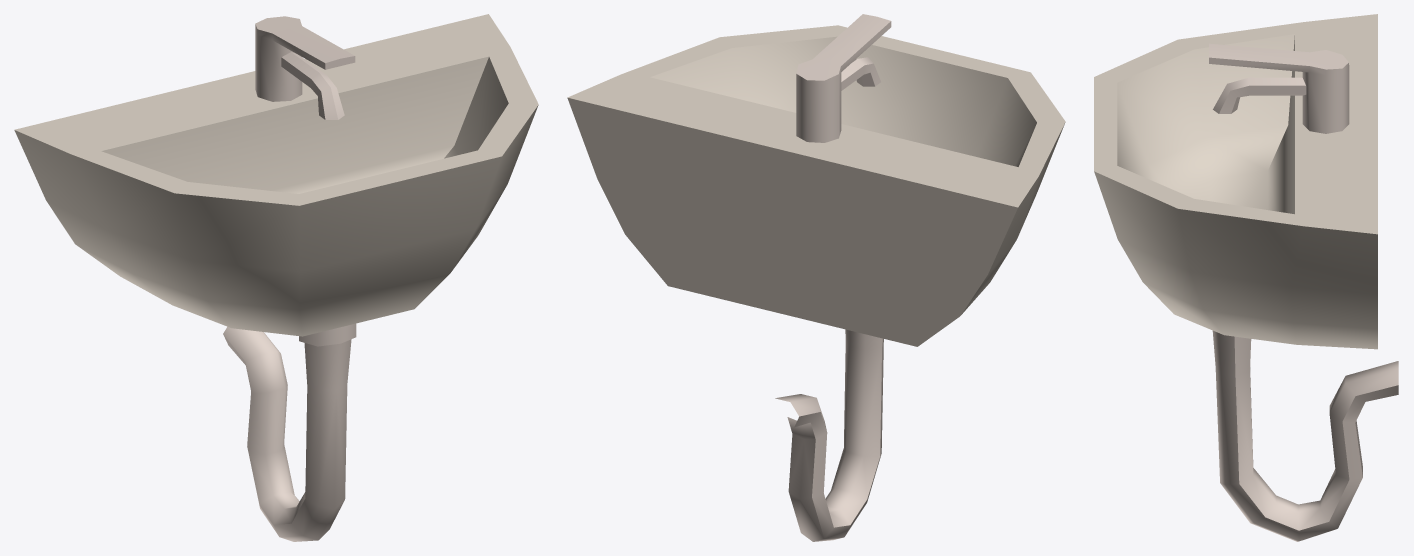
File: bath-sink.glb
3 views of the same model, side by side, from view 1: azimuth 30°, elevation 25°; view 2: azimuth 150°, elevation 25°; view 3: azimuth 270°, elevation 25° (orthographic). The views are drawn at different scales.
Visible parts, largest first — view 1: Bathroom_Sink; view 2: Bathroom_Sink; view 3: Bathroom_Sink.
Boxes of the visible parts, x1,y1,x2,y2 form: Bathroom_Sink: [14, 14, 538, 541]; Bathroom_Sink: [567, 14, 1065, 541]; Bathroom_Sink: [1094, 14, 1398, 541].
Bounding box in the file's own units: 1.39 × 1.45 × 0.8152.
